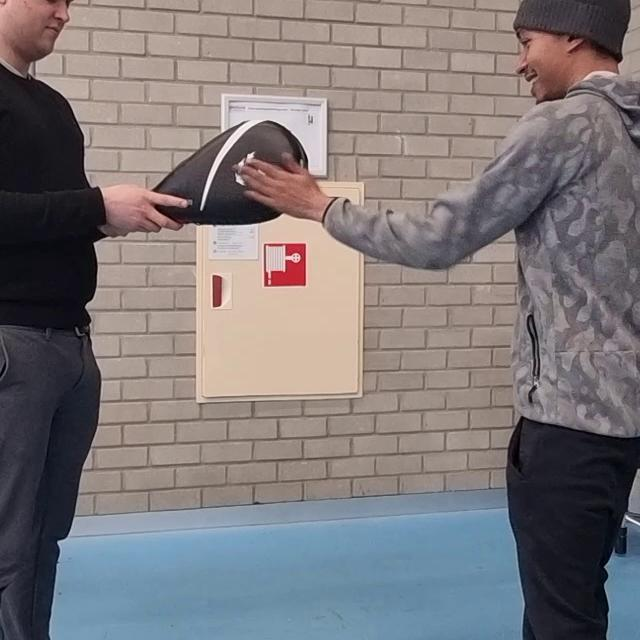paddle: (150, 119, 306, 226)
